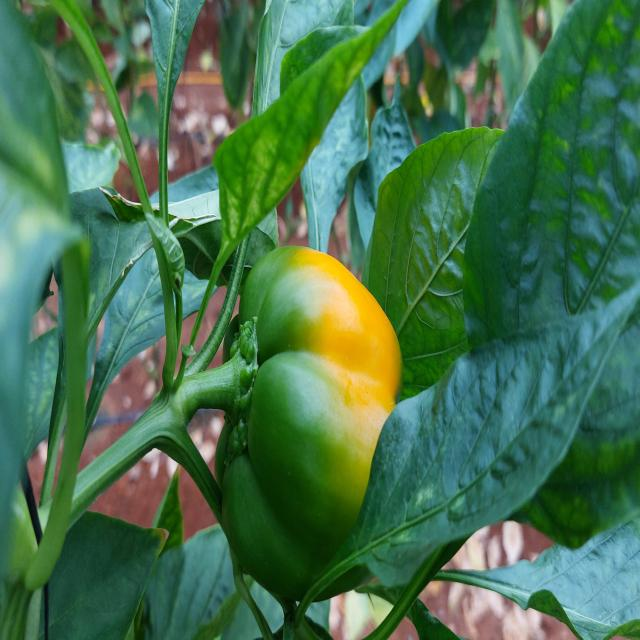Green--Not-ready-to-harvest: (220, 260, 426, 585)
